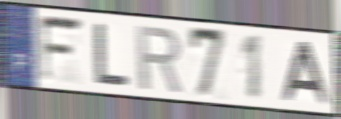1: (237, 33, 263, 101)
7: (187, 24, 228, 100)
A: (280, 39, 332, 107)
F: (37, 13, 86, 85)
L: (93, 21, 131, 89)
R: (135, 23, 185, 95)
